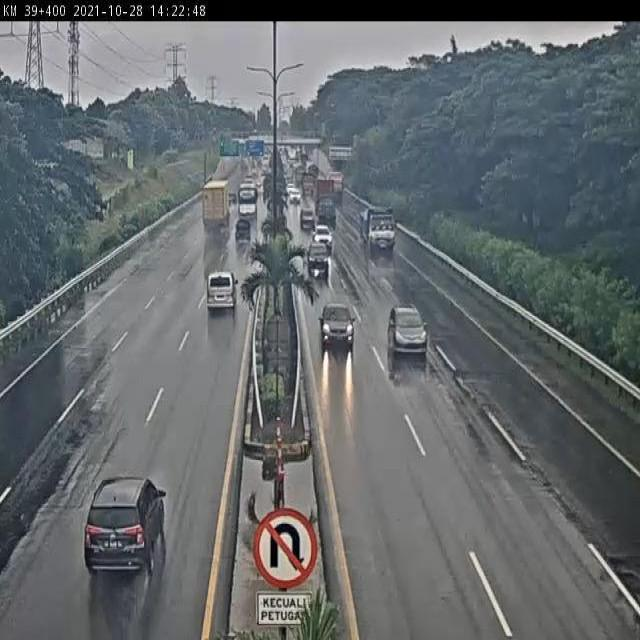big bus: (236, 187, 259, 224)
truck-l-: (356, 203, 397, 253)
truck-xl-: (198, 181, 231, 235), (313, 177, 338, 227)
